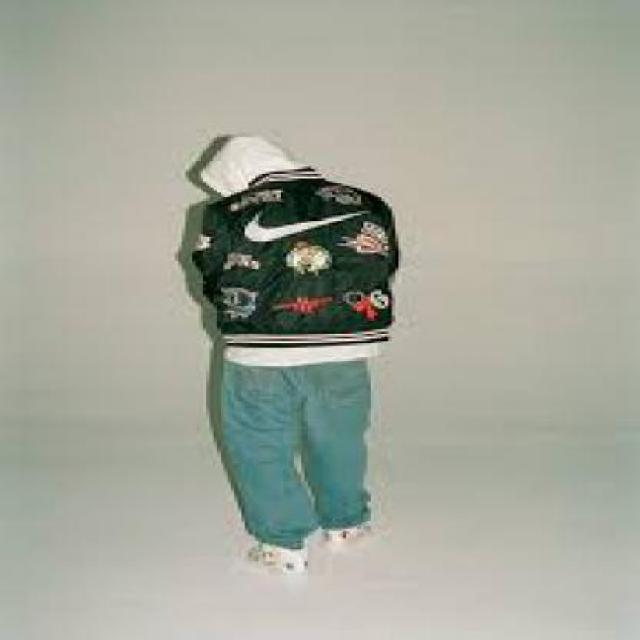Nike: (238, 206, 372, 239)
